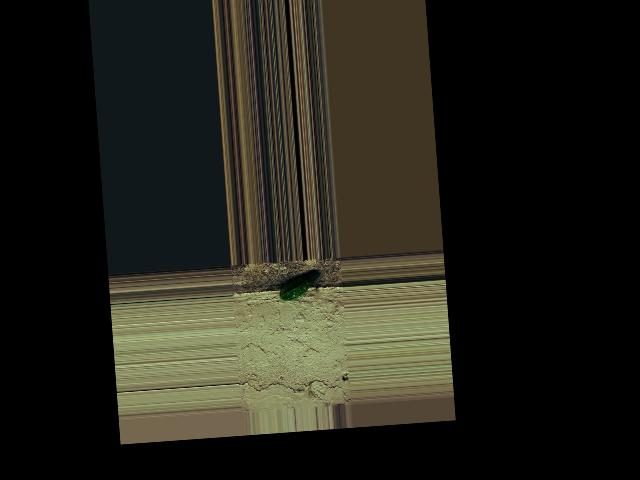cucumber: (277, 270, 319, 301)
